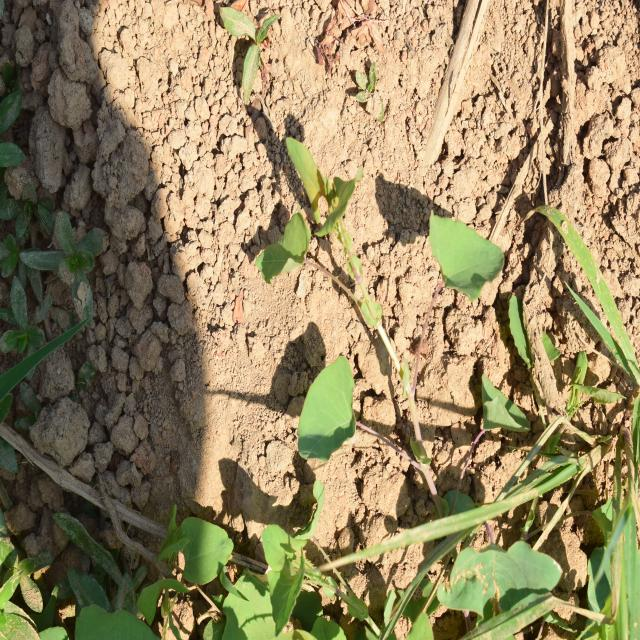Asiatic_Smartweed: (282, 128, 517, 483)
